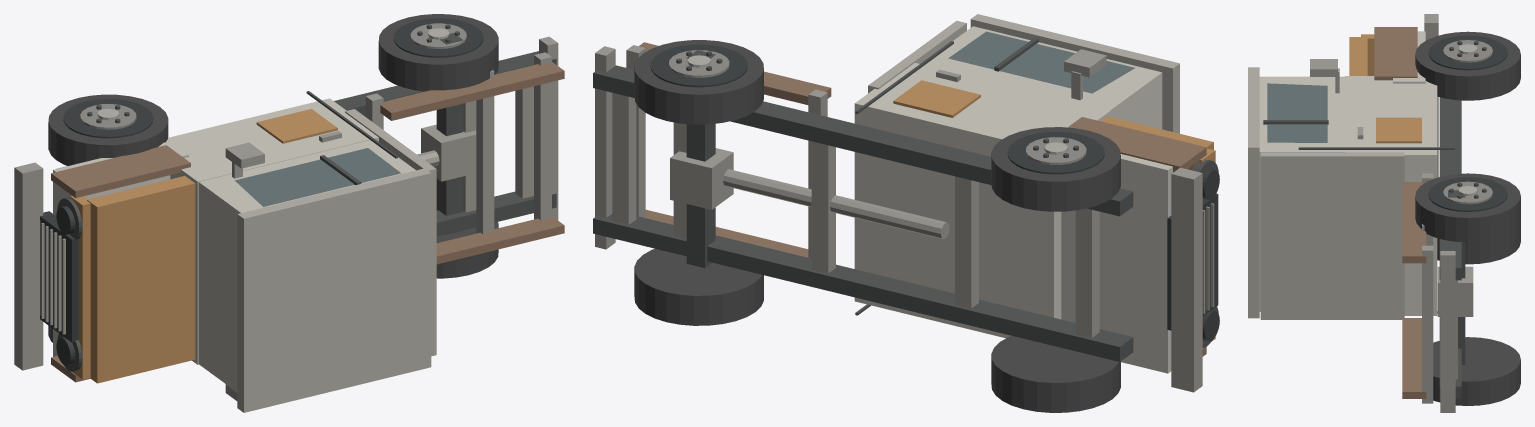
File: unfinished_pickup.glb
The picture shows the model from 3 angles, left to right: view 1: azimuth 30°, elevation 25°; view 2: azimuth 150°, elevation 25°; view 3: azimuth 270°, elevation 25°; orthographic projection. The views are drawn at different scales.
Visible parts, largest first — view 1: 009_cab_roof, 011_hood_steel, 008_cab_upper, 007_cab_lower, 059_front_bumper, 090_pickup_rear_tire, 038_cab_side_window, 070_pickup_front_tire, 034_rusty_fender, 051_bed_remnant_side_rail, 050_bed_remnant_side_rail, 049_rear_bed_cross_support (+20 smaller); view 2: 007_cab_lower, 013_front_fenders, 000_ladder_chassis_rail, 001_ladder_chassis_rail, 060_pickup_front_tire, 080_pickup_rear_tire, 059_front_bumper, 070_pickup_front_tire, 090_pickup_rear_tire, 008_cab_upper, 038_cab_side_window, 009_cab_roof (+23 smaller); view 3: 010_cab_back, 007_cab_lower, 090_pickup_rear_tire, 080_pickup_rear_tire, 070_pickup_front_tire, 008_cab_upper, 038_cab_side_window, 009_cab_roof, 052_rear_frame_crosspiece, 034_rusty_fender, 001_ladder_chassis_rail, 049_rear_bed_cross_support (+19 smaller).
Boxes of the visible parts, left/top/right/bottom form: 009_cab_roof: left=237, top=168, right=431, bottom=412; 011_hood_steel: left=87, top=176, right=195, bottom=383; 008_cab_upper: left=198, top=140, right=415, bottom=391; 007_cab_lower: left=166, top=98, right=378, bottom=364; 059_front_bumper: left=14, top=162, right=43, bottom=370; 090_pickup_rear_tire: left=378, top=14, right=498, bottom=91; 038_cab_side_window: left=235, top=148, right=400, bottom=206; 070_pickup_front_tire: left=48, top=94, right=168, bottom=165; 034_rusty_fender: left=51, top=145, right=190, bottom=198; 051_bed_remnant_side_rail: left=380, top=62, right=564, bottom=120; 050_bed_remnant_side_rail: left=436, top=216, right=564, bottom=264; 049_rear_bed_cross_support: left=534, top=52, right=551, bottom=220; 007_cab_lower: left=854, top=63, right=1110, bottom=338; 013_front_fenders: left=1058, top=124, right=1187, bottom=373; 000_ladder_chassis_rail: left=593, top=214, right=1133, bottom=361; 001_ladder_chassis_rail: left=593, top=65, right=1133, bottom=216; 060_pickup_front_tire: left=991, top=336, right=1120, bottom=412; 080_pickup_rear_tire: left=634, top=248, right=763, bottom=325; 059_front_bumper: left=1171, top=167, right=1202, bottom=392; 070_pickup_front_tire: left=991, top=127, right=1120, bottom=211; 090_pickup_rear_tire: left=634, top=40, right=763, bottom=124; 008_cab_upper: left=925, top=26, right=1162, bottom=129; 038_cab_side_window: left=948, top=31, right=1134, bottom=93; 009_cab_roof: left=970, top=14, right=1179, bottom=133; 010_cab_back: left=1260, top=152, right=1404, bottom=319; 007_cab_lower: left=1345, top=76, right=1437, bottom=315; 090_pickup_rear_tire: left=1415, top=173, right=1520, bottom=242; 080_pickup_rear_tire: left=1433, top=337, right=1520, bottom=405; 070_pickup_front_tire: left=1415, top=31, right=1520, bottom=100; 008_cab_upper: left=1259, top=76, right=1344, bottom=311; 038_cab_side_window: left=1267, top=83, right=1327, bottom=142; 009_cab_roof: left=1248, top=67, right=1259, bottom=318; 052_rear_frame_crosspiece: left=1440, top=251, right=1455, bottom=412; 034_rusty_fender: left=1374, top=27, right=1417, bottom=80; 001_ladder_chassis_rail: left=1439, top=97, right=1461, bottom=280; 049_rear_bed_cross_support: left=1422, top=245, right=1433, bottom=403.
Size of the model in its own units: 5.75 by 2.47 by 2.84.
